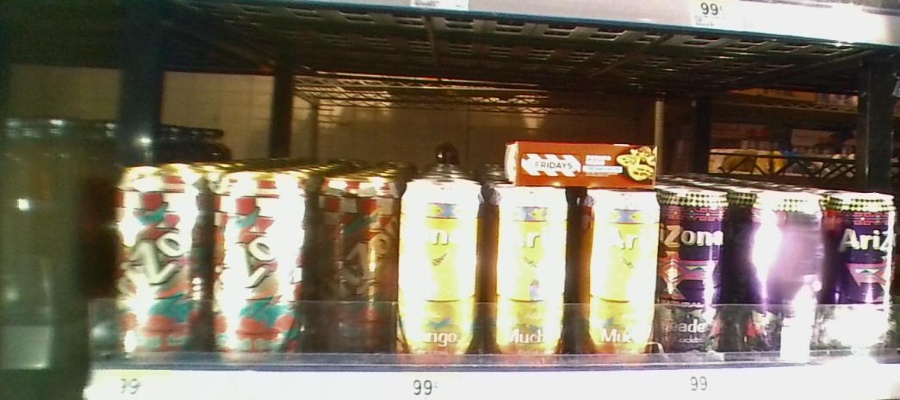bottle: (208, 166, 308, 361), (112, 164, 208, 357), (485, 169, 573, 363), (313, 165, 398, 362), (738, 178, 826, 362), (574, 171, 660, 356), (400, 169, 480, 363), (661, 176, 728, 362), (830, 187, 896, 359)
